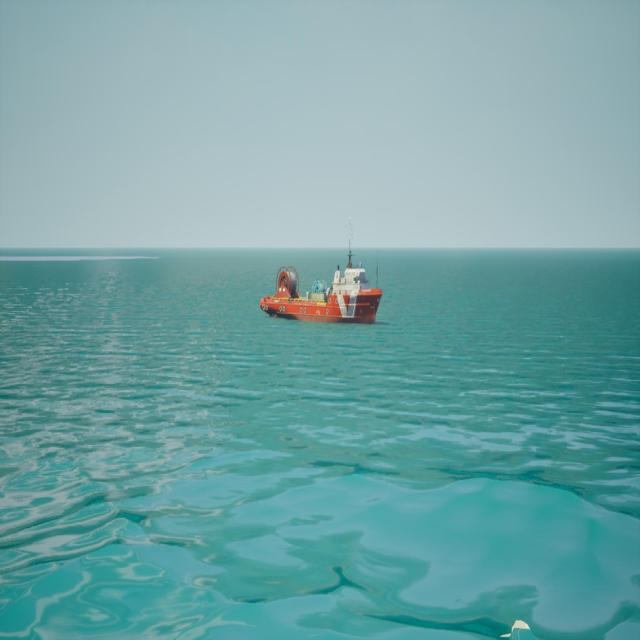tug boat: (261, 233, 384, 327)
